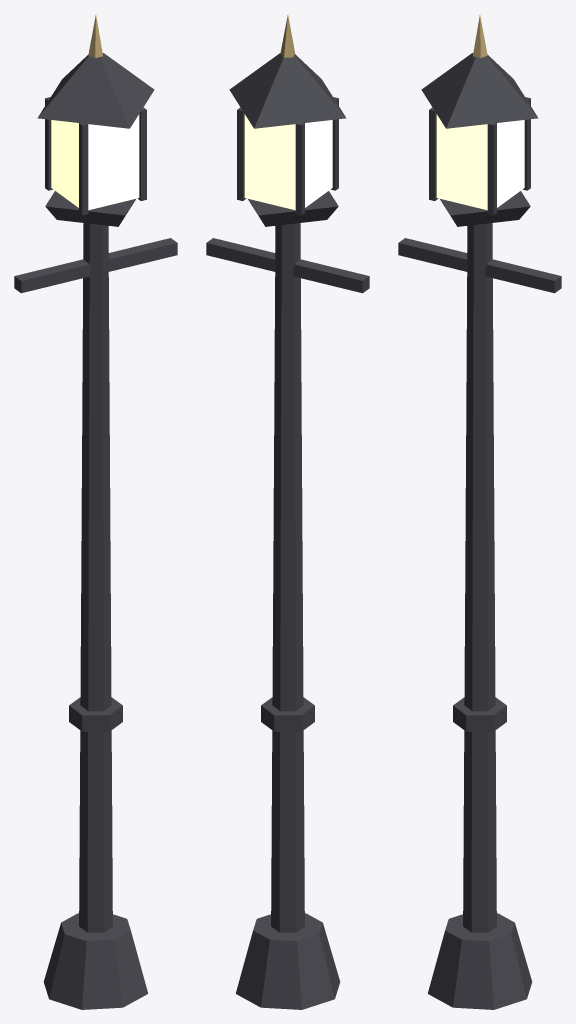
Rendered from lamp_post.glb.
3 renders of one model, left to right at view 1: azimuth 30°, elevation 25°; view 2: azimuth 150°, elevation 25°; view 3: azimuth 330°, elevation 25°, orthographic.
Parts seen in each view (by area): view 1: lamp_post; view 2: lamp_post; view 3: lamp_post.
Boxes of the visible parts, bbox=[...] form: lamp_post: bbox=[14, 15, 177, 1009]; lamp_post: bbox=[206, 15, 369, 1009]; lamp_post: bbox=[398, 15, 561, 1009].
Size of the model in its own units: 0.8 by 4.76 by 0.6.
